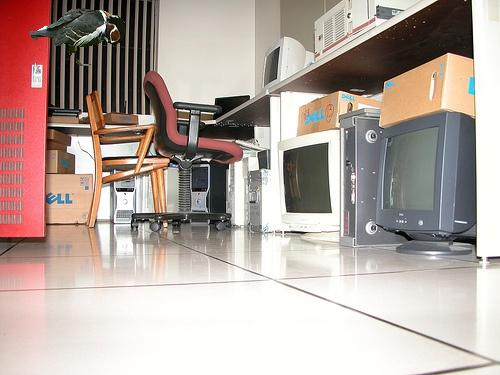tampered: (30, 9, 125, 66)
